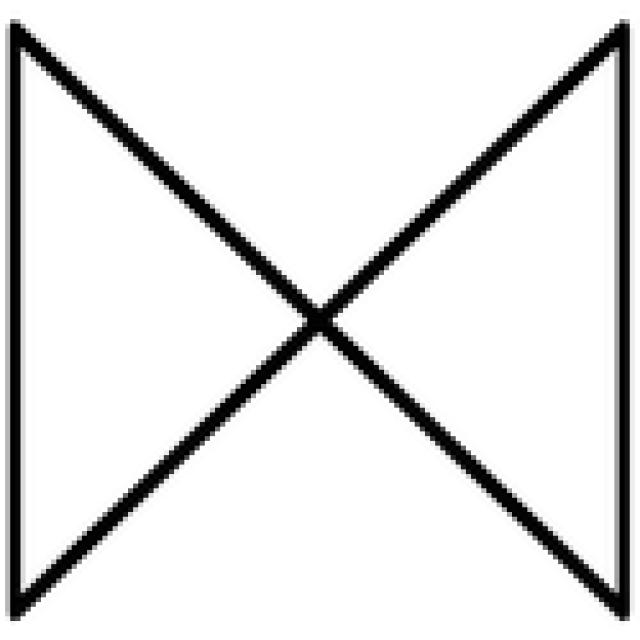Gate valve: (14, 26, 322, 609), (323, 23, 625, 609)
